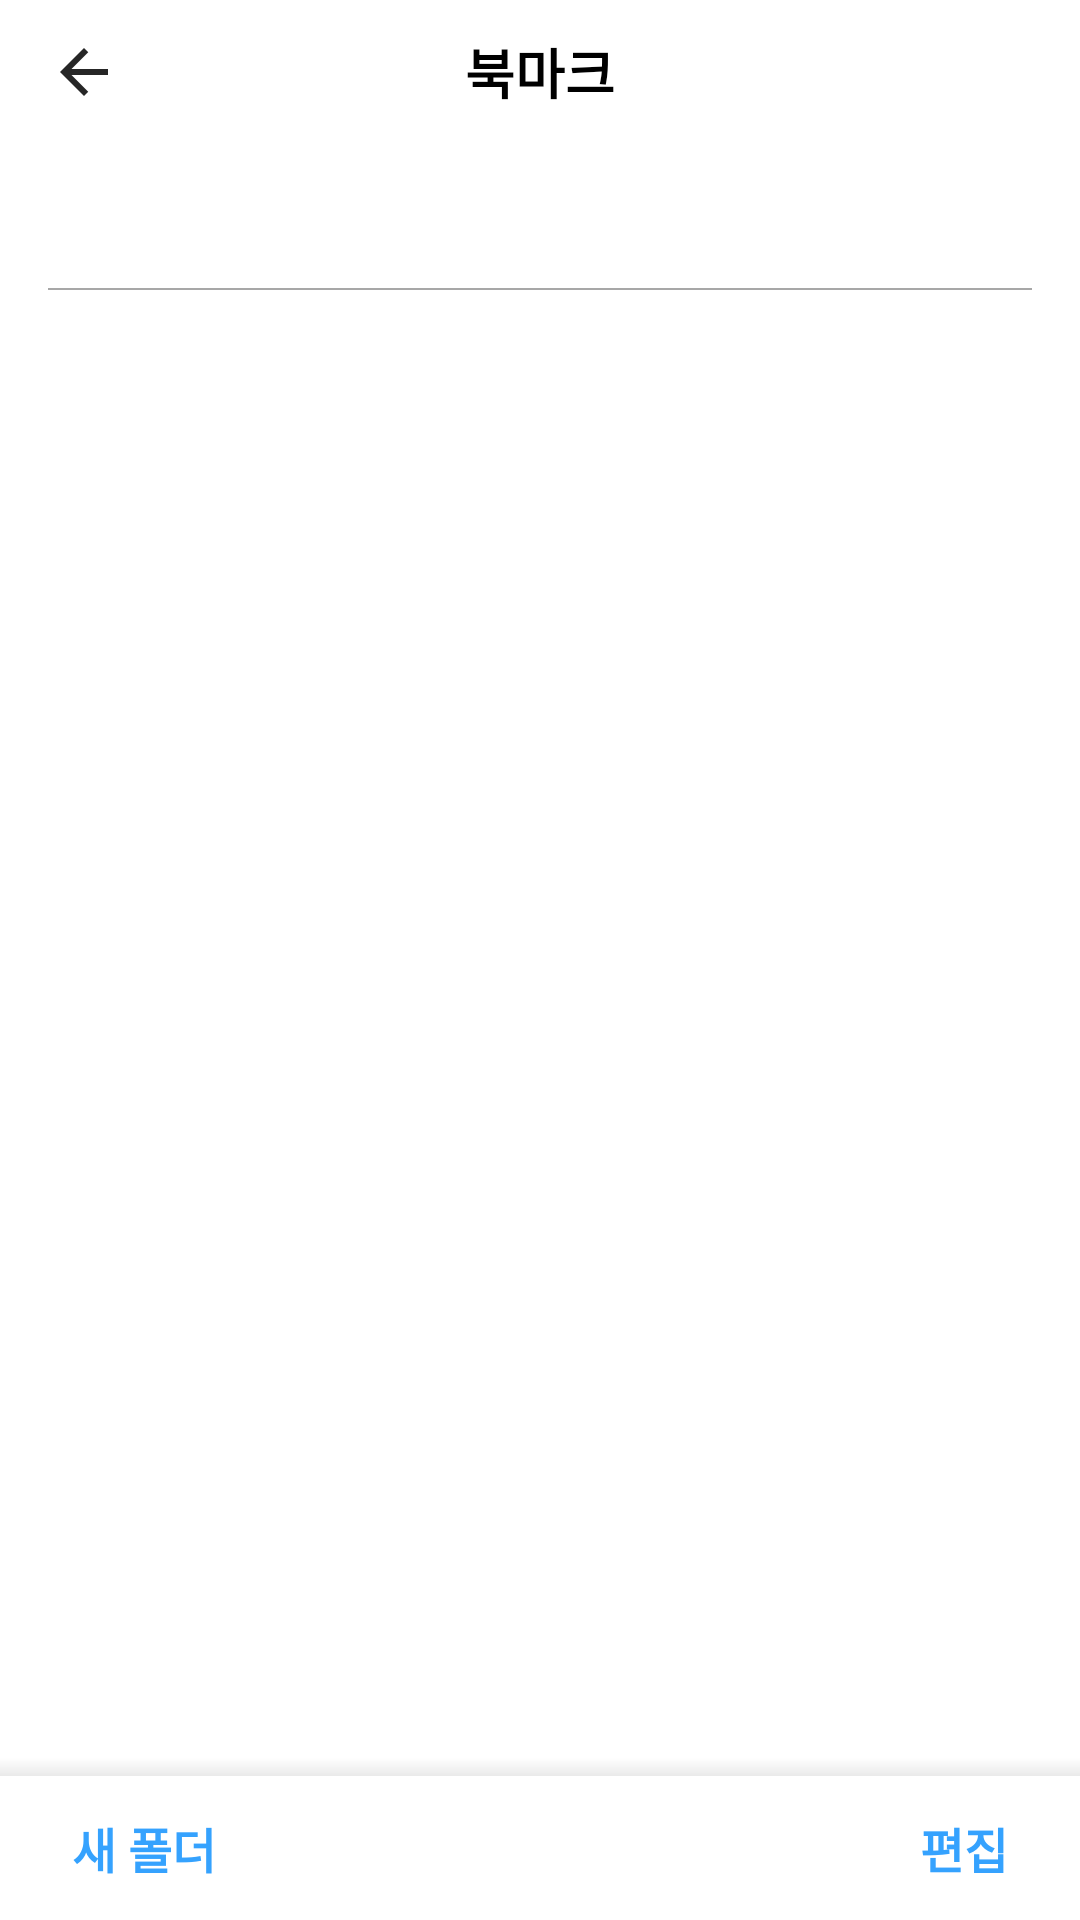

Where icons sit on this 1080*1920 app screen, as (x1, y1, x2, y2):
arrow back: (60, 48, 108, 96)
